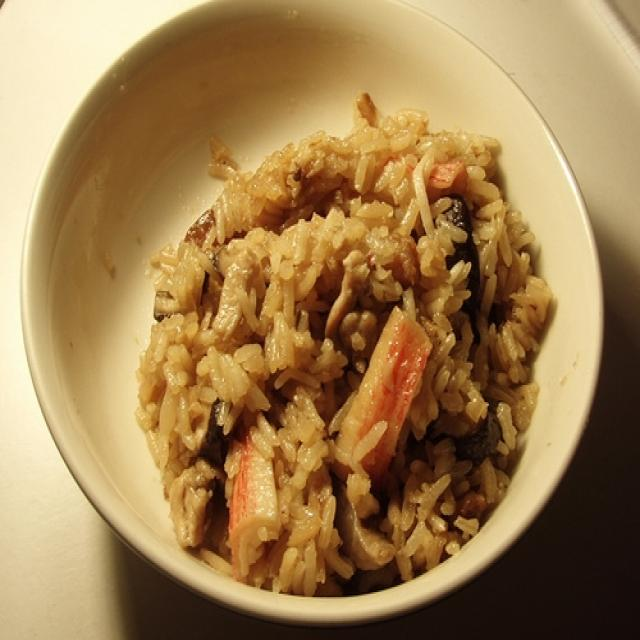米饭主食: (61, 69, 589, 604)
